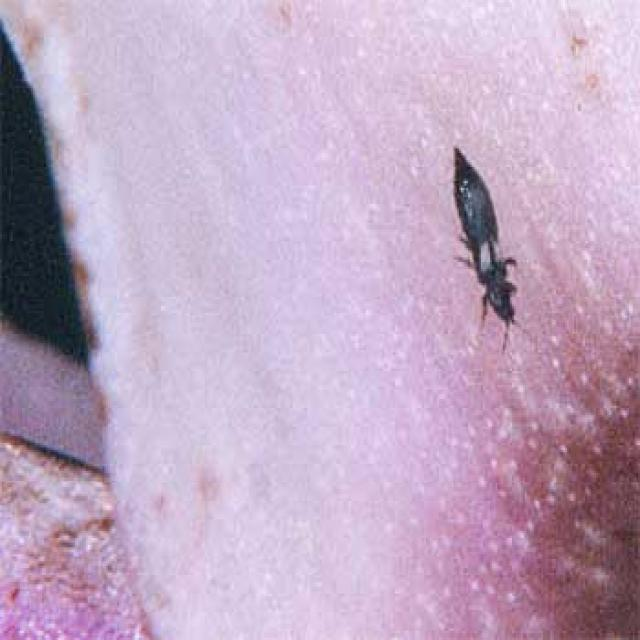Thrip-Adult-: (426, 125, 557, 368)
